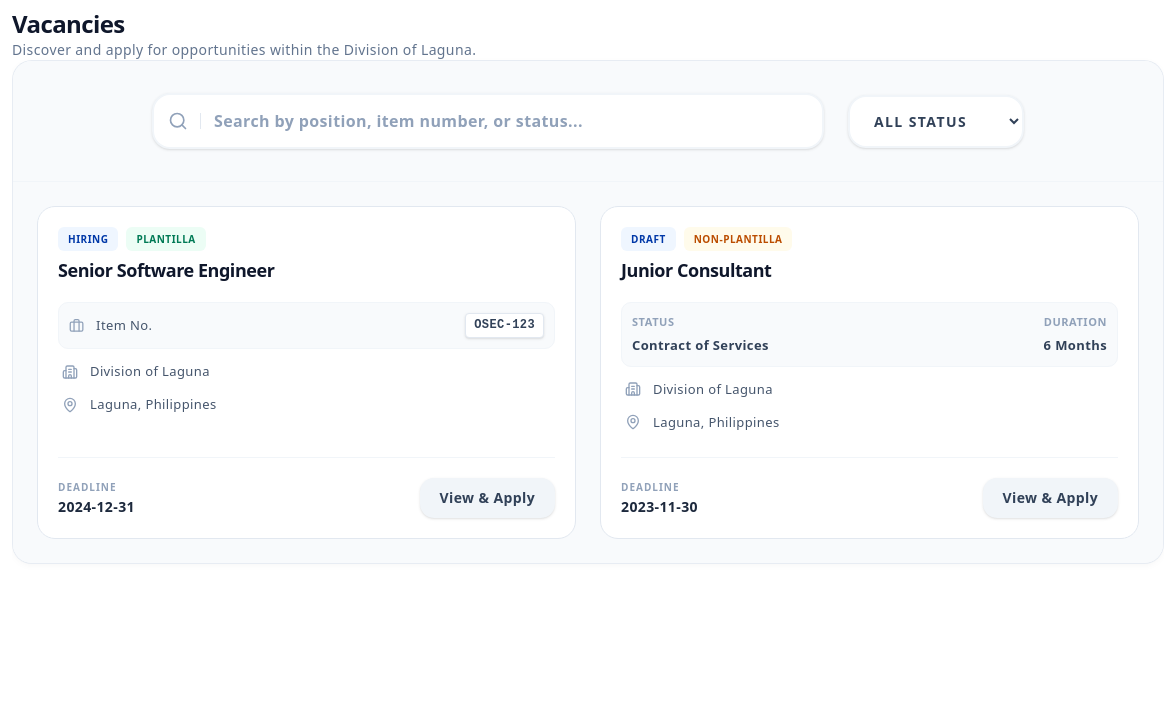
Test: Vacancies Integration › filters vacancies by search term
Expected: the heading "Senior Software Engineer" is shown, [58,258,274,282]
Step 1. Type "Consultant" into the field with placeholder "Search by position, item number, or status..." → (488, 121), box [152,93,824,149]
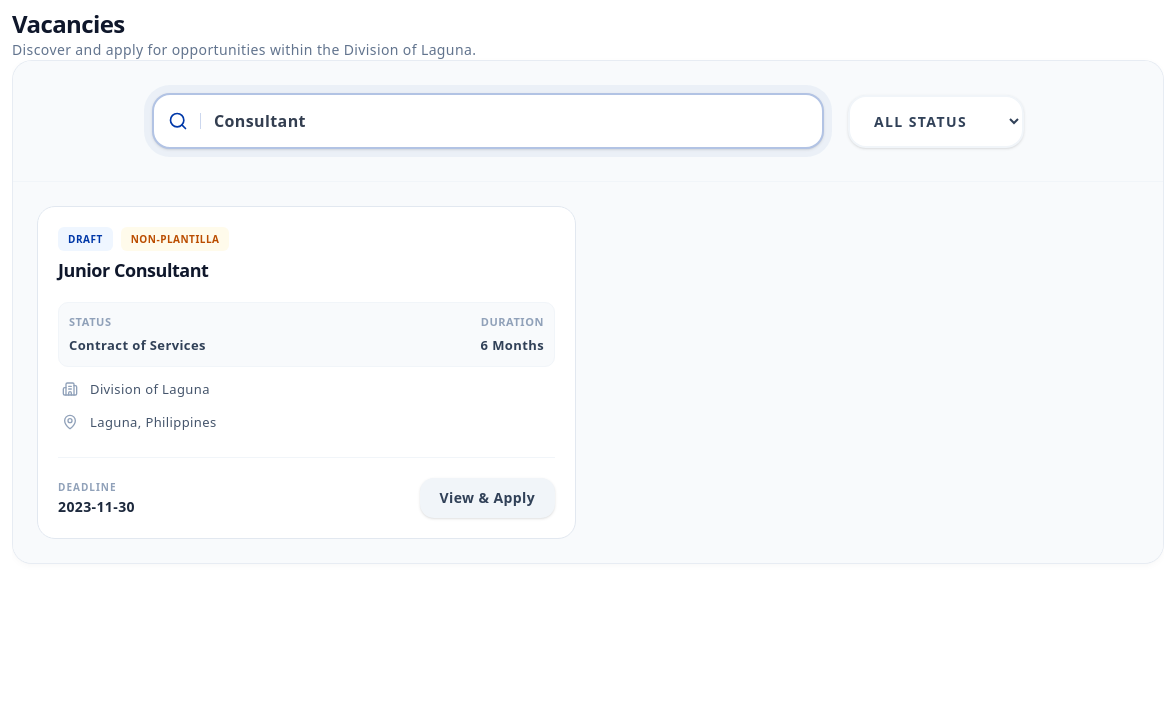
Expected: the heading "Junior Consultant" is shown, [58,258,208,282]
Now the heading "Senior Software Engineer" is gone
